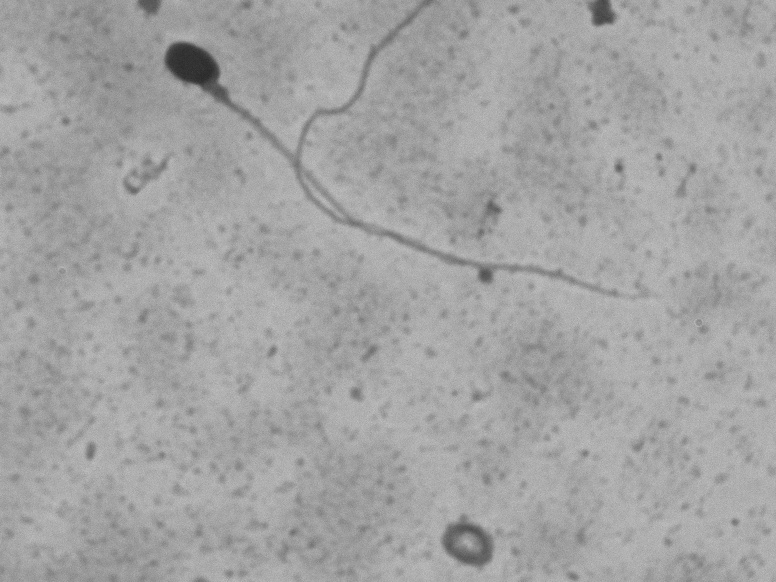Abnormal: (148, 31, 660, 314)
